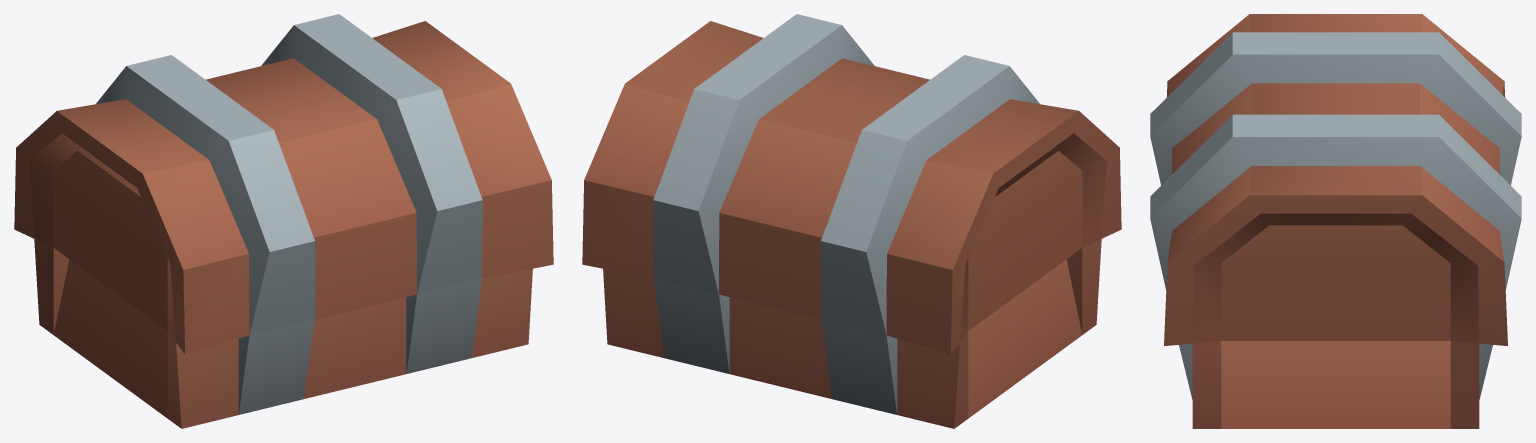
The model's file is trunk_large_C.glb.
The picture shows the model from 3 angles, left to right: view 1: azimuth 30°, elevation 25°; view 2: azimuth 150°, elevation 25°; view 3: azimuth 270°, elevation 25°; orthographic projection.
Parts seen in each view (by area): view 1: trunk_large_C; view 2: trunk_large_C; view 3: trunk_large_C.
Boxes of the visible parts, x1=… form: trunk_large_C: x1=14, y1=14, x2=553, y2=428; trunk_large_C: x1=582, y1=14, x2=1121, y2=428; trunk_large_C: x1=1150, y1=14, x2=1521, y2=428.
Bounding box in the file's own units: 1.5 × 1 × 1.3.
Materials: 1 (1 with a texture image).
